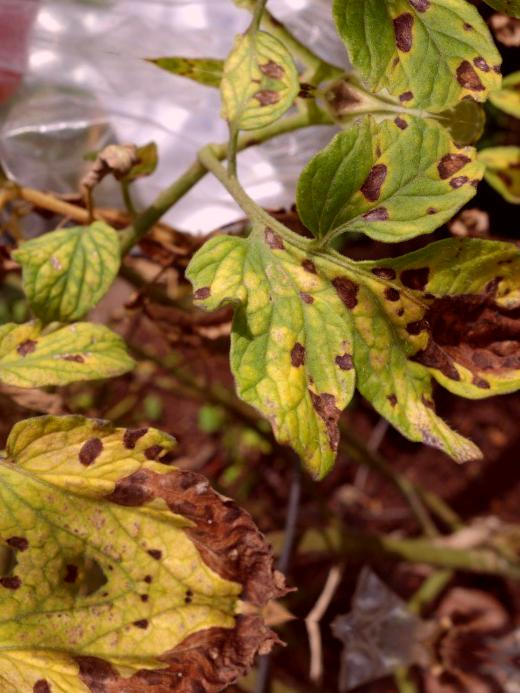Tomato leaf bacterial spot: (0, 391, 339, 620), (155, 203, 387, 485), (285, 100, 493, 274), (0, 202, 127, 332), (0, 300, 138, 415)
